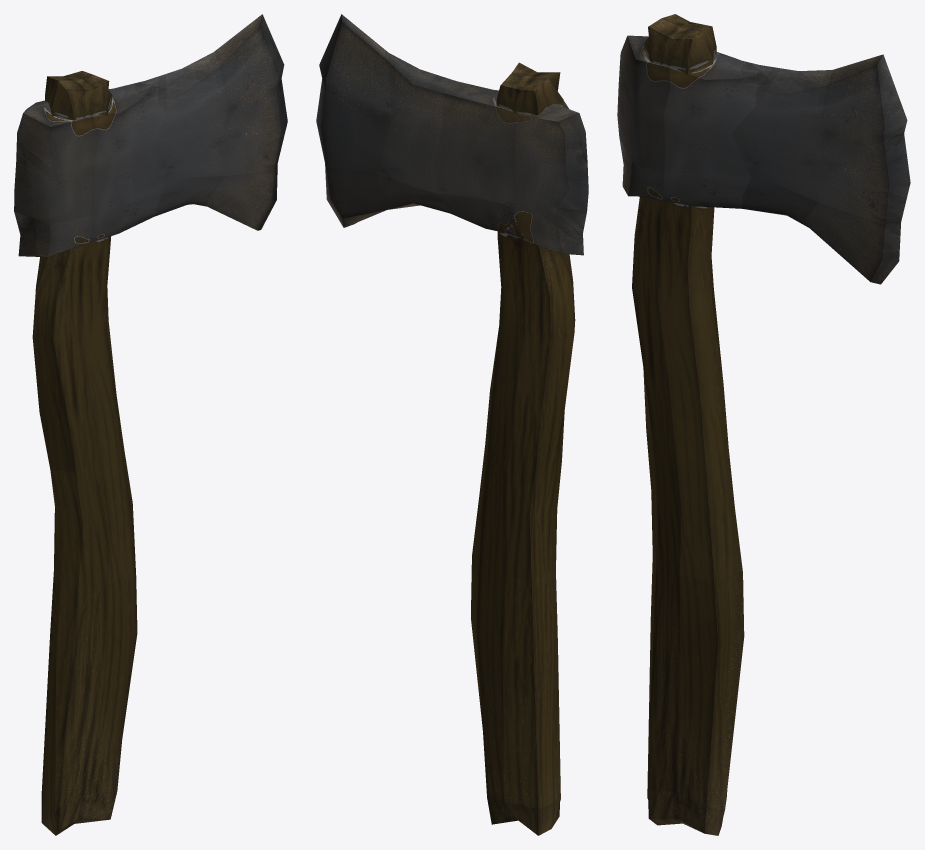
File: Axe.fbx
3 views of the same model, side by side, from view 1: azimuth 30°, elevation 25°; view 2: azimuth 150°, elevation 25°; view 3: azimuth 330°, elevation 25° (orthographic). The views are drawn at different scales.
Parts seen in each view (by area): view 1: Axe1; view 2: Axe1; view 3: Axe1.
Part boxes in pixels (<box>): Axe1: <box>14,14,287,835</box>; Axe1: <box>316,14,588,835</box>; Axe1: <box>617,14,910,835</box>.
Bounding box in the file's own units: 17.39 × 46.71 × 3.61.
